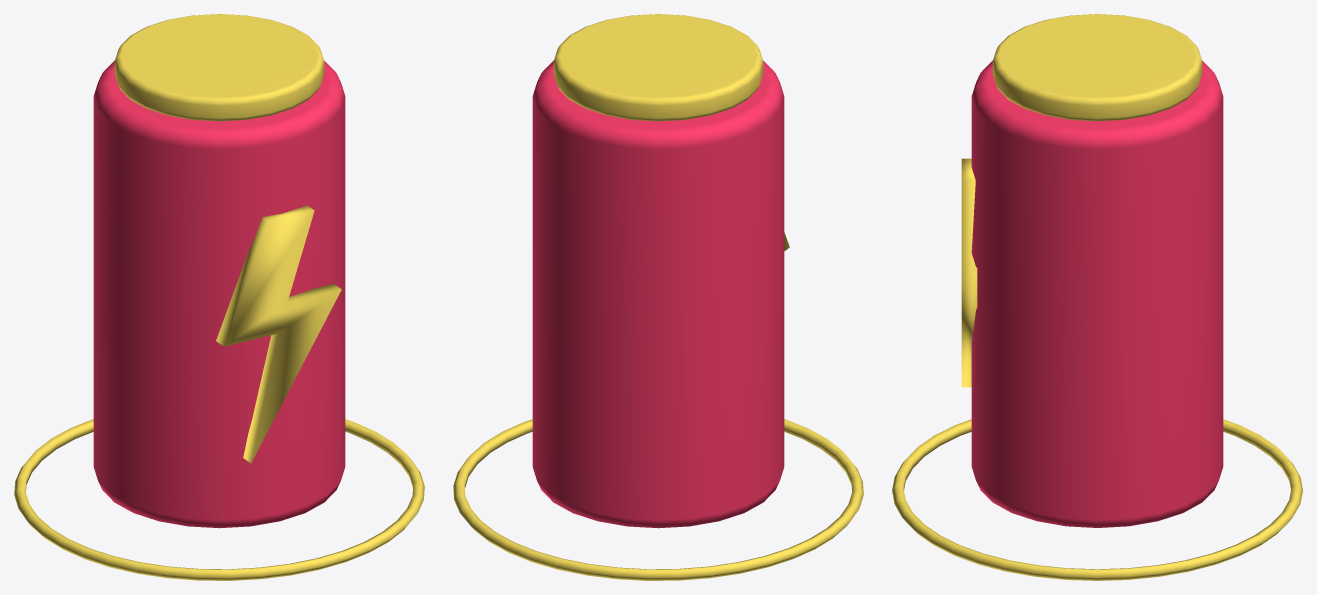
The model's file is neon_holo_can.glb.
3 renders of one model, left to right at view 1: azimuth 30°, elevation 25°; view 2: azimuth 150°, elevation 25°; view 3: azimuth 270°, elevation 25°, orthographic.
Visible parts, largest first — view 1: SpinCan; view 2: SpinCan; view 3: SpinCan.
Boxes of the visible parts, x1=… form: SpinCan: x1=14, y1=14, x2=424, y2=580; SpinCan: x1=453, y1=14, x2=863, y2=580; SpinCan: x1=892, y1=14, x2=1302, y2=580.
Size of the model in its own units: 3.92 by 4.63 by 3.92.
